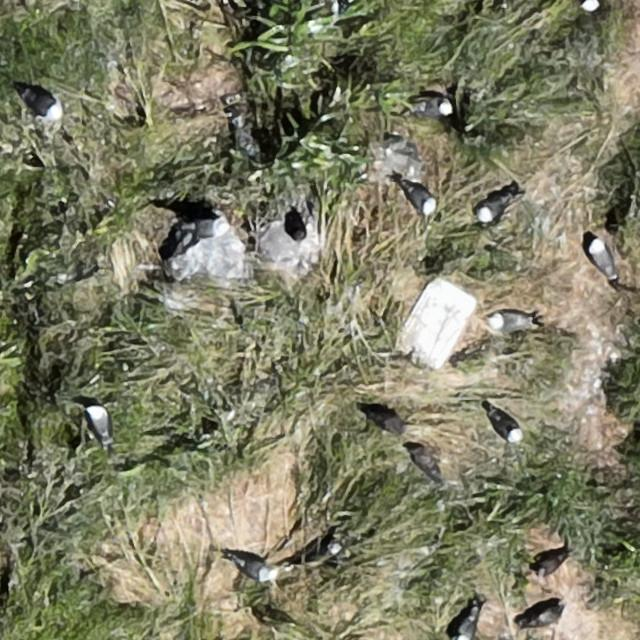umineko: (293, 540, 342, 570), (182, 212, 235, 236), (28, 91, 62, 118), (492, 411, 522, 441), (405, 185, 435, 214), (589, 242, 613, 278), (235, 560, 272, 582), (413, 96, 450, 116), (491, 311, 529, 330), (477, 196, 507, 220), (90, 405, 110, 440), (458, 612, 477, 640), (580, 0, 599, 10)
